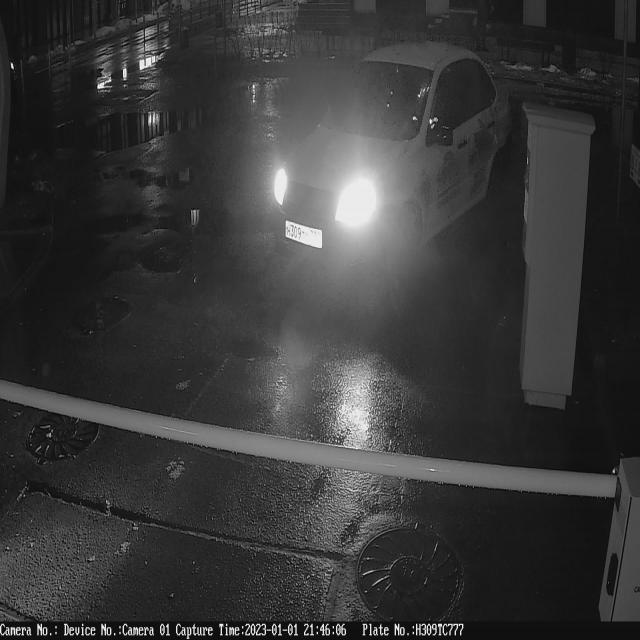car-plate-numbers: (284, 216, 327, 253)
